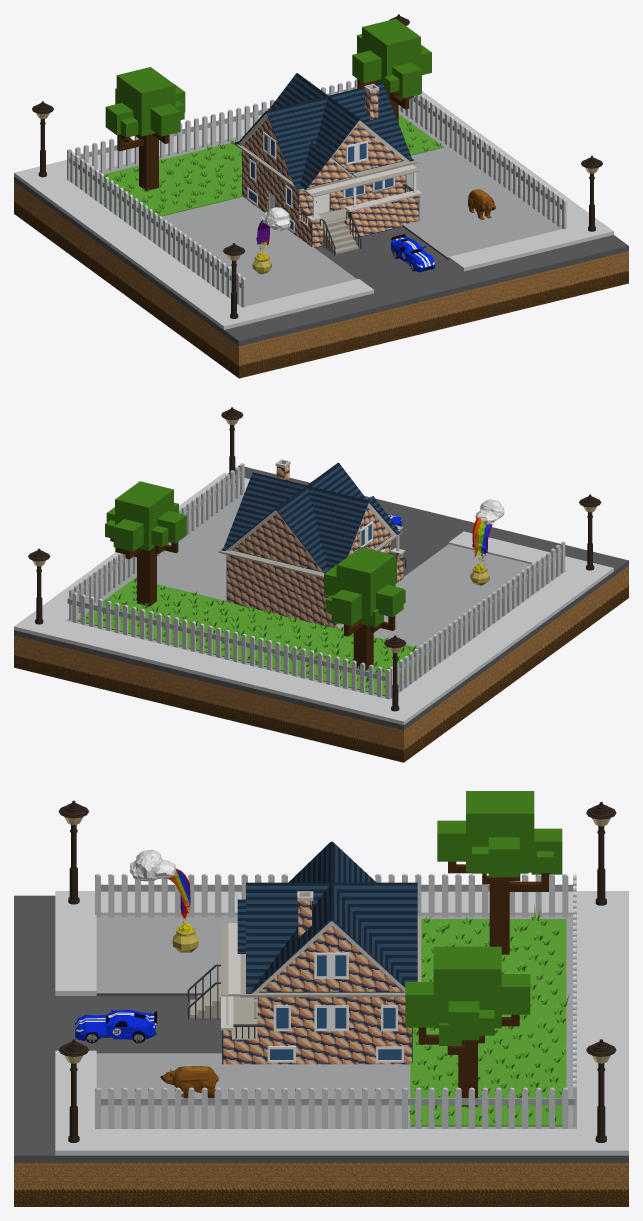
3 renders of one model, top to bottom at view 1: azimuth 30°, elevation 25°; view 2: azimuth 150°, elevation 25°; view 3: azimuth 270°, elevation 25°, orthographic. The views are drawn at different scales.
Parts seen in each view (by area): view 1: Cube.004, Cube.430, OBJRANDOM_RAINBOW, VEHICLES_RACING_CAR, ANIMAL_OSO; view 2: Cube.004, Cube.430, OBJRANDOM_RAINBOW; view 3: Cube.004, Cube.430, OBJRANDOM_RAINBOW, VEHICLES_RACING_CAR, ANIMAL_OSO.
Part boxes in pixels (x1,y1,x2,y2): Cube.004: [14, 14, 628, 378]; Cube.430: [233, 73, 422, 255]; OBJRANDOM_RAINBOW: [252, 207, 290, 274]; VEHICLES_RACING_CAR: [390, 234, 435, 272]; ANIMAL_OSO: [468, 189, 495, 219]; Cube.004: [14, 407, 628, 762]; Cube.430: [218, 459, 406, 627]; OBJRANDOM_RAINBOW: [470, 499, 504, 585]; Cube.004: [14, 791, 628, 1206]; Cube.430: [187, 841, 421, 1064]; OBJRANDOM_RAINBOW: [129, 849, 198, 952]; VEHICLES_RACING_CAR: [74, 1009, 157, 1043]; ANIMAL_OSO: [160, 1066, 218, 1098].
Size of the model in its own units: 4000 by 1702 by 4000.
39 materials, 4 textured.
